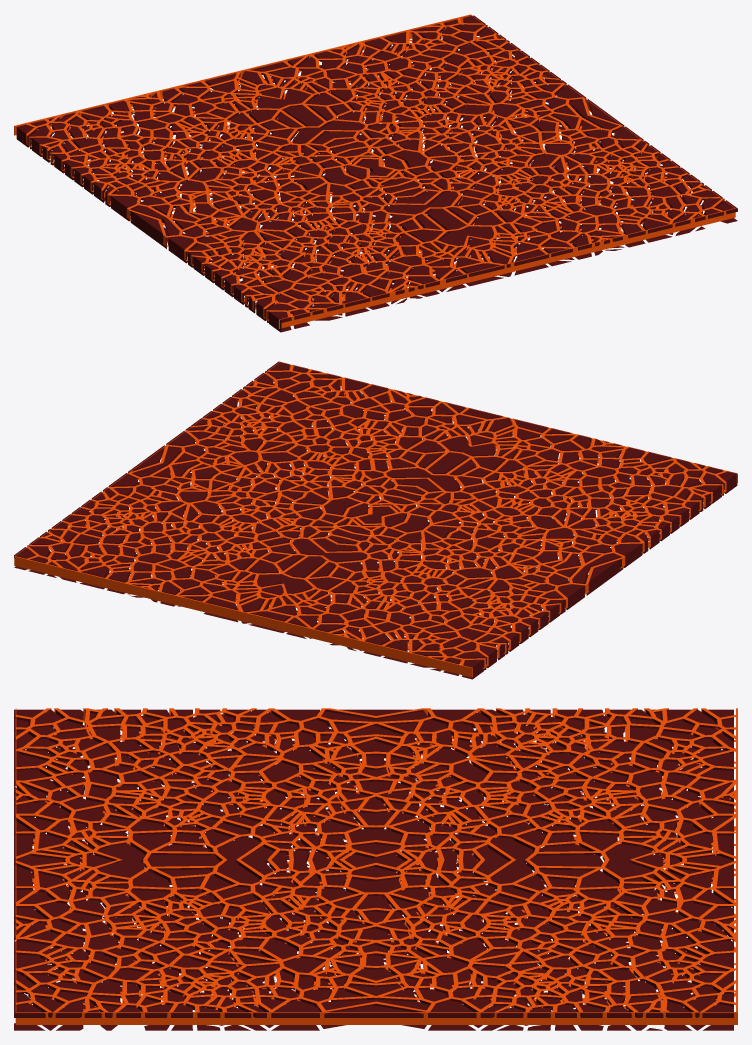
File: scene_centered.gltf
The picture shows the model from 3 angles, top to bottom: view 1: azimuth 30°, elevation 25°; view 2: azimuth 150°, elevation 25°; view 3: azimuth 270°, elevation 25°; orthographic projection. The views are drawn at different scales.
Parts seen in each view (by area): view 1: Just Lava_4; view 2: Just Lava_4; view 3: Just Lava_4.
Boxes of the visible parts, bbox=[...] form: Just Lava_4: bbox=[14, 14, 737, 332]; Just Lava_4: bbox=[14, 361, 737, 679]; Just Lava_4: bbox=[14, 708, 737, 1030].
Size of the model in its own units: 296 by 7.79 by 297.
